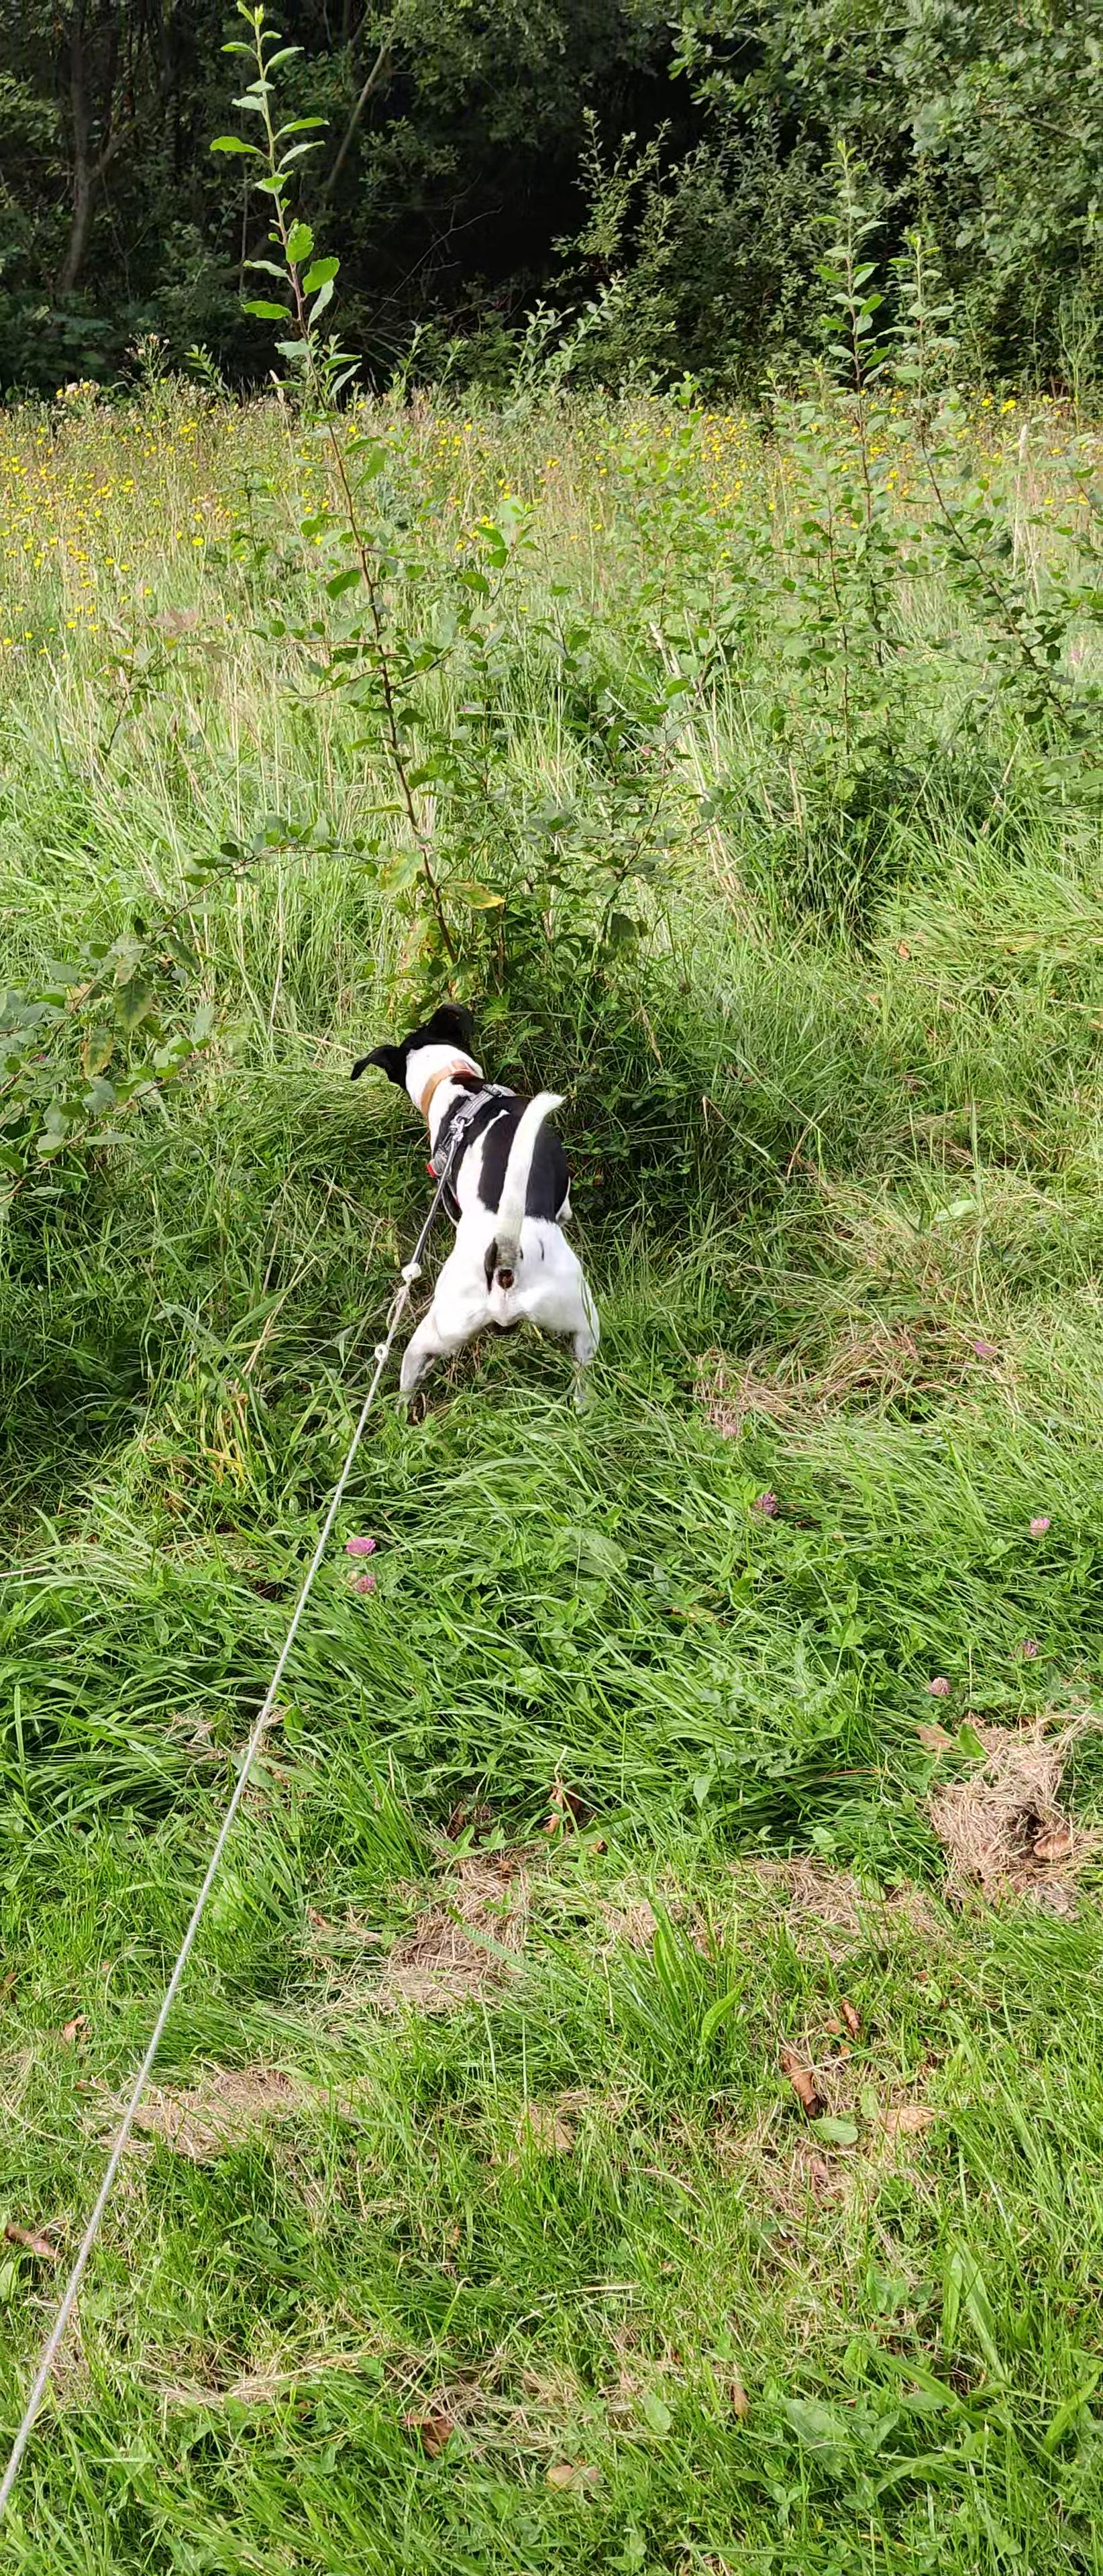Dog: (340, 981, 630, 1431)
